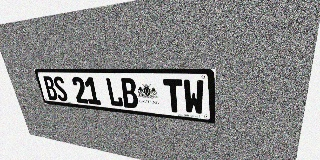1: (83, 77, 101, 105)
2: (71, 77, 89, 104)
B: (120, 78, 139, 109), (42, 76, 59, 101)
L: (105, 77, 124, 107)
S: (52, 76, 69, 102)
T: (163, 79, 184, 113)
W: (183, 79, 204, 115)
